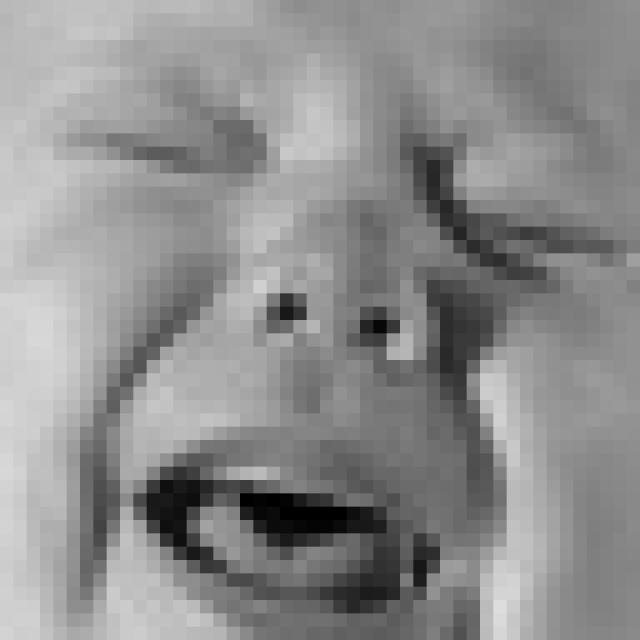sad: (43, 47, 640, 640)
